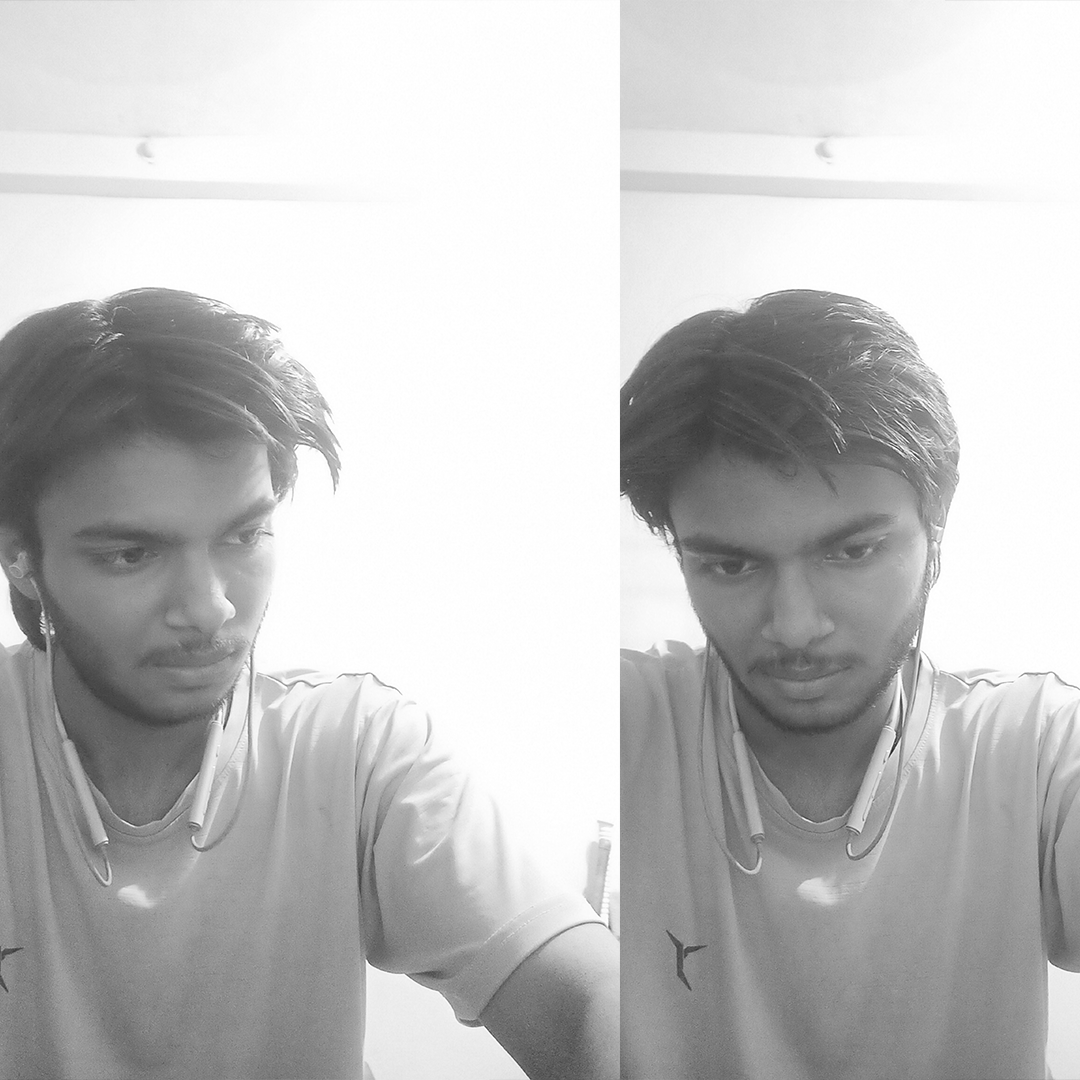distracted: (11, 242, 537, 982), (565, 235, 1071, 956)
